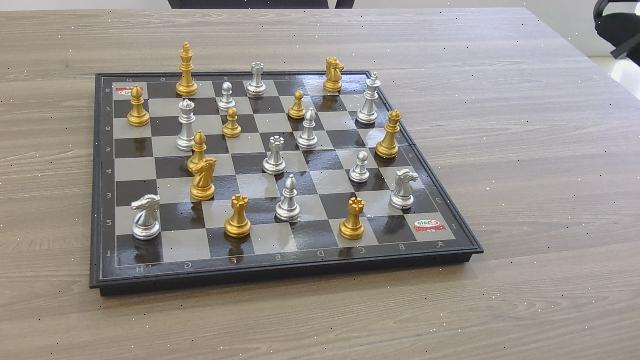black_bishop: (126, 83, 147, 126), (191, 128, 207, 160)
black_king: (176, 39, 196, 96)
black_knight: (191, 159, 217, 200), (322, 57, 345, 93)
black_pawn: (220, 106, 240, 139), (286, 89, 306, 121)
black_queen: (377, 109, 402, 159)
black_rook: (337, 196, 366, 241), (222, 194, 251, 239)
white_bishop: (273, 173, 300, 224), (295, 104, 319, 149)
white_king: (356, 69, 383, 125)
white_knight: (127, 192, 161, 241), (388, 169, 421, 210)
white_pawn: (348, 149, 372, 182), (216, 81, 234, 110)
white_queen: (175, 99, 195, 148)
white_rook: (262, 135, 286, 175), (245, 62, 266, 98)
